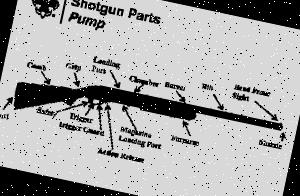shotgun: (11, 80, 288, 134)
